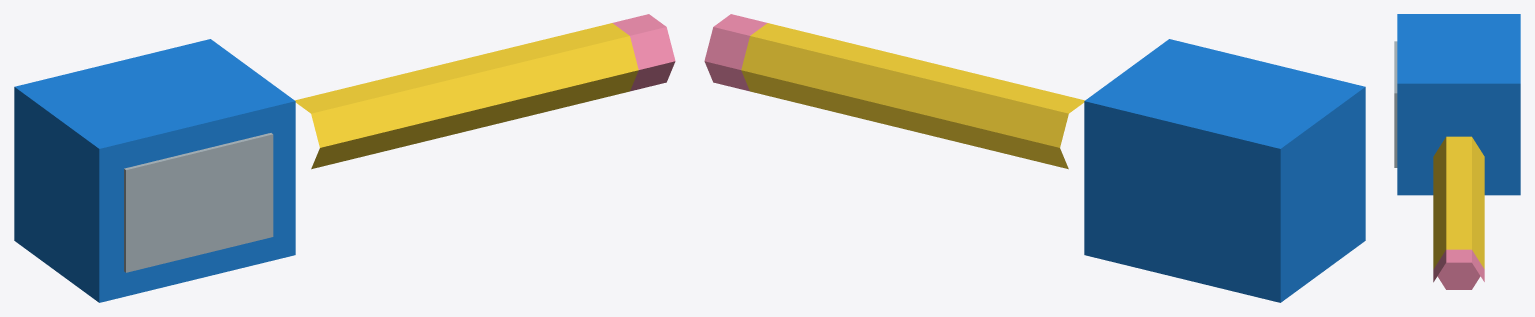
File: pennvassare.glb
3 views of the same model, side by side, from view 1: azimuth 30°, elevation 25°; view 2: azimuth 150°, elevation 25°; view 3: azimuth 270°, elevation 25° (orthographic). The views are drawn at different scales.
Visible parts, largest first — view 1: pennvassare; view 2: pennvassare; view 3: pennvassare.
Boxes of the visible parts, bbox=[...] form: pennvassare: bbox=[14, 14, 675, 302]; pennvassare: bbox=[704, 14, 1365, 302]; pennvassare: bbox=[1394, 14, 1520, 289].
Bounding box in the file's own units: 0.49 × 0.12 × 0.123.
